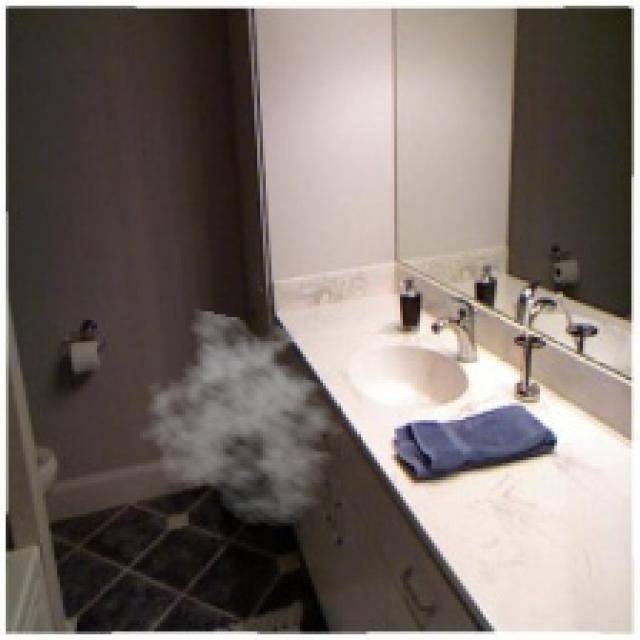smoke: (137, 308, 354, 528)
